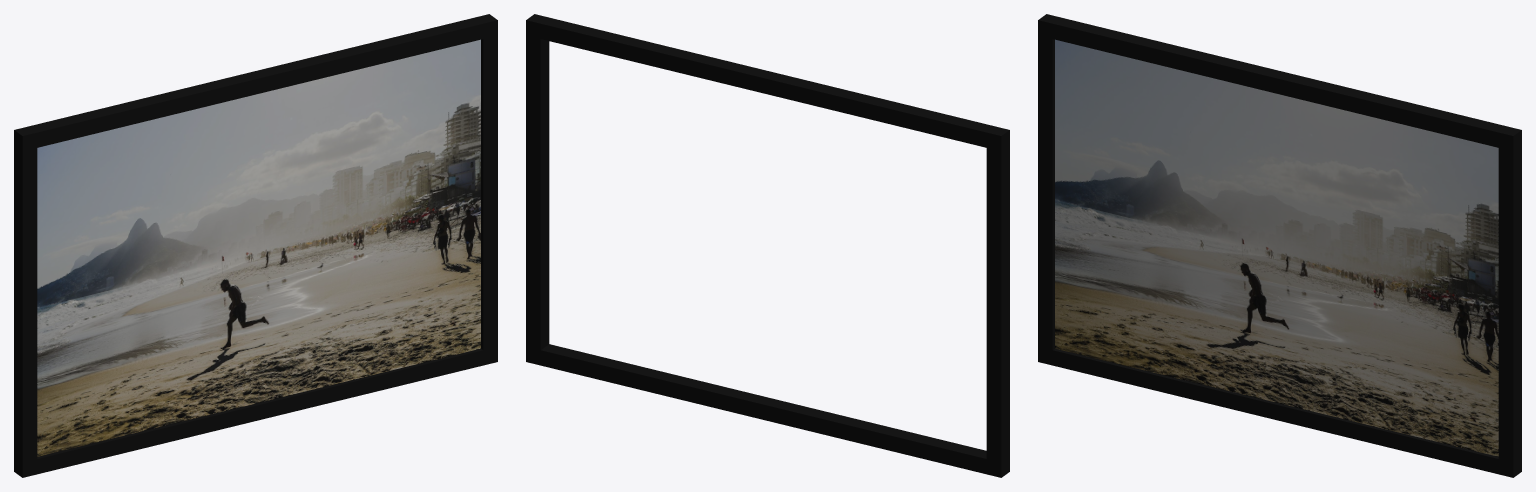
File: rio-runner-36x24.glb
3 views of the same model, side by side, from view 1: azimuth 30°, elevation 25°; view 2: azimuth 150°, elevation 25°; view 3: azimuth 330°, elevation 25° (orthographic).
Parts seen in each view (by area): view 1: frame; view 2: frame; view 3: frame.
Part boxes in pixels (left/top/right/bottom): frame: left=14, top=14, right=497, bottom=477; frame: left=526, top=14, right=1009, bottom=477; frame: left=1038, top=14, right=1521, bottom=477.
Size of the model in its own units: 0.9744 by 0.6696 by 0.03.
2 materials, 1 textured.
